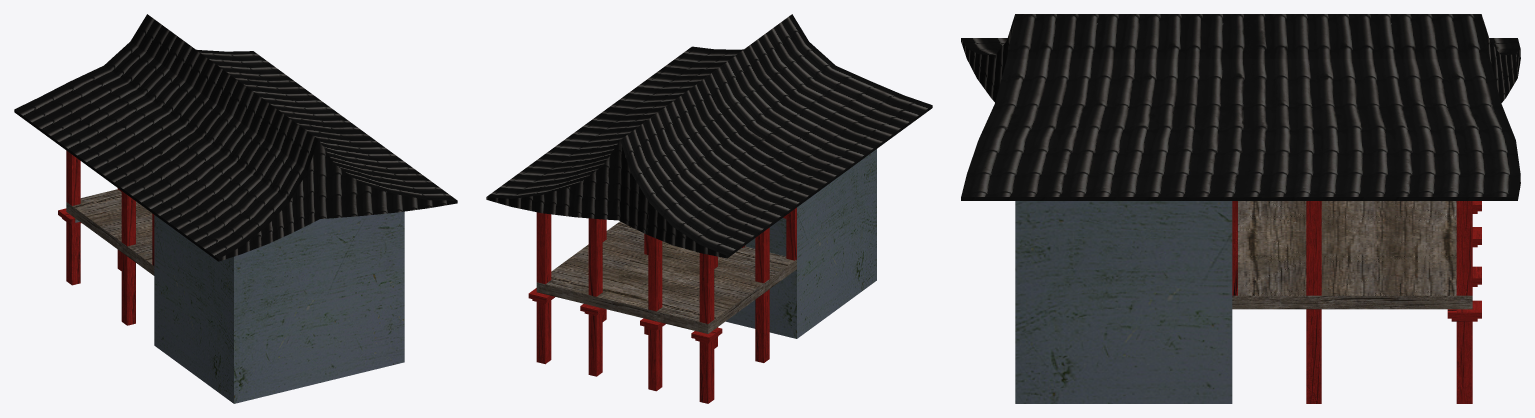
The model's file is House01SlideJump01.fbx.
3 views of the same model, side by side, from view 1: azimuth 30°, elevation 25°; view 2: azimuth 150°, elevation 25°; view 3: azimuth 270°, elevation 25° (orthographic). The views are drawn at different scales.
Parts seen in each view (by area): view 1: Cube_021, Cube_015; view 2: Cube_021, Cube_015; view 3: Cube_021, Cube_015.
Boxes of the visible parts, box(x1,y1,x2,y2) form: Cube_021: box(14, 14, 457, 261); Cube_015: box(58, 150, 404, 403); Cube_021: box(486, 14, 932, 258); Cube_015: box(528, 149, 876, 403); Cube_021: box(961, 14, 1520, 200); Cube_015: box(1015, 201, 1481, 403).
Bounding box in the file's own units: 874 × 852 × 1299.
